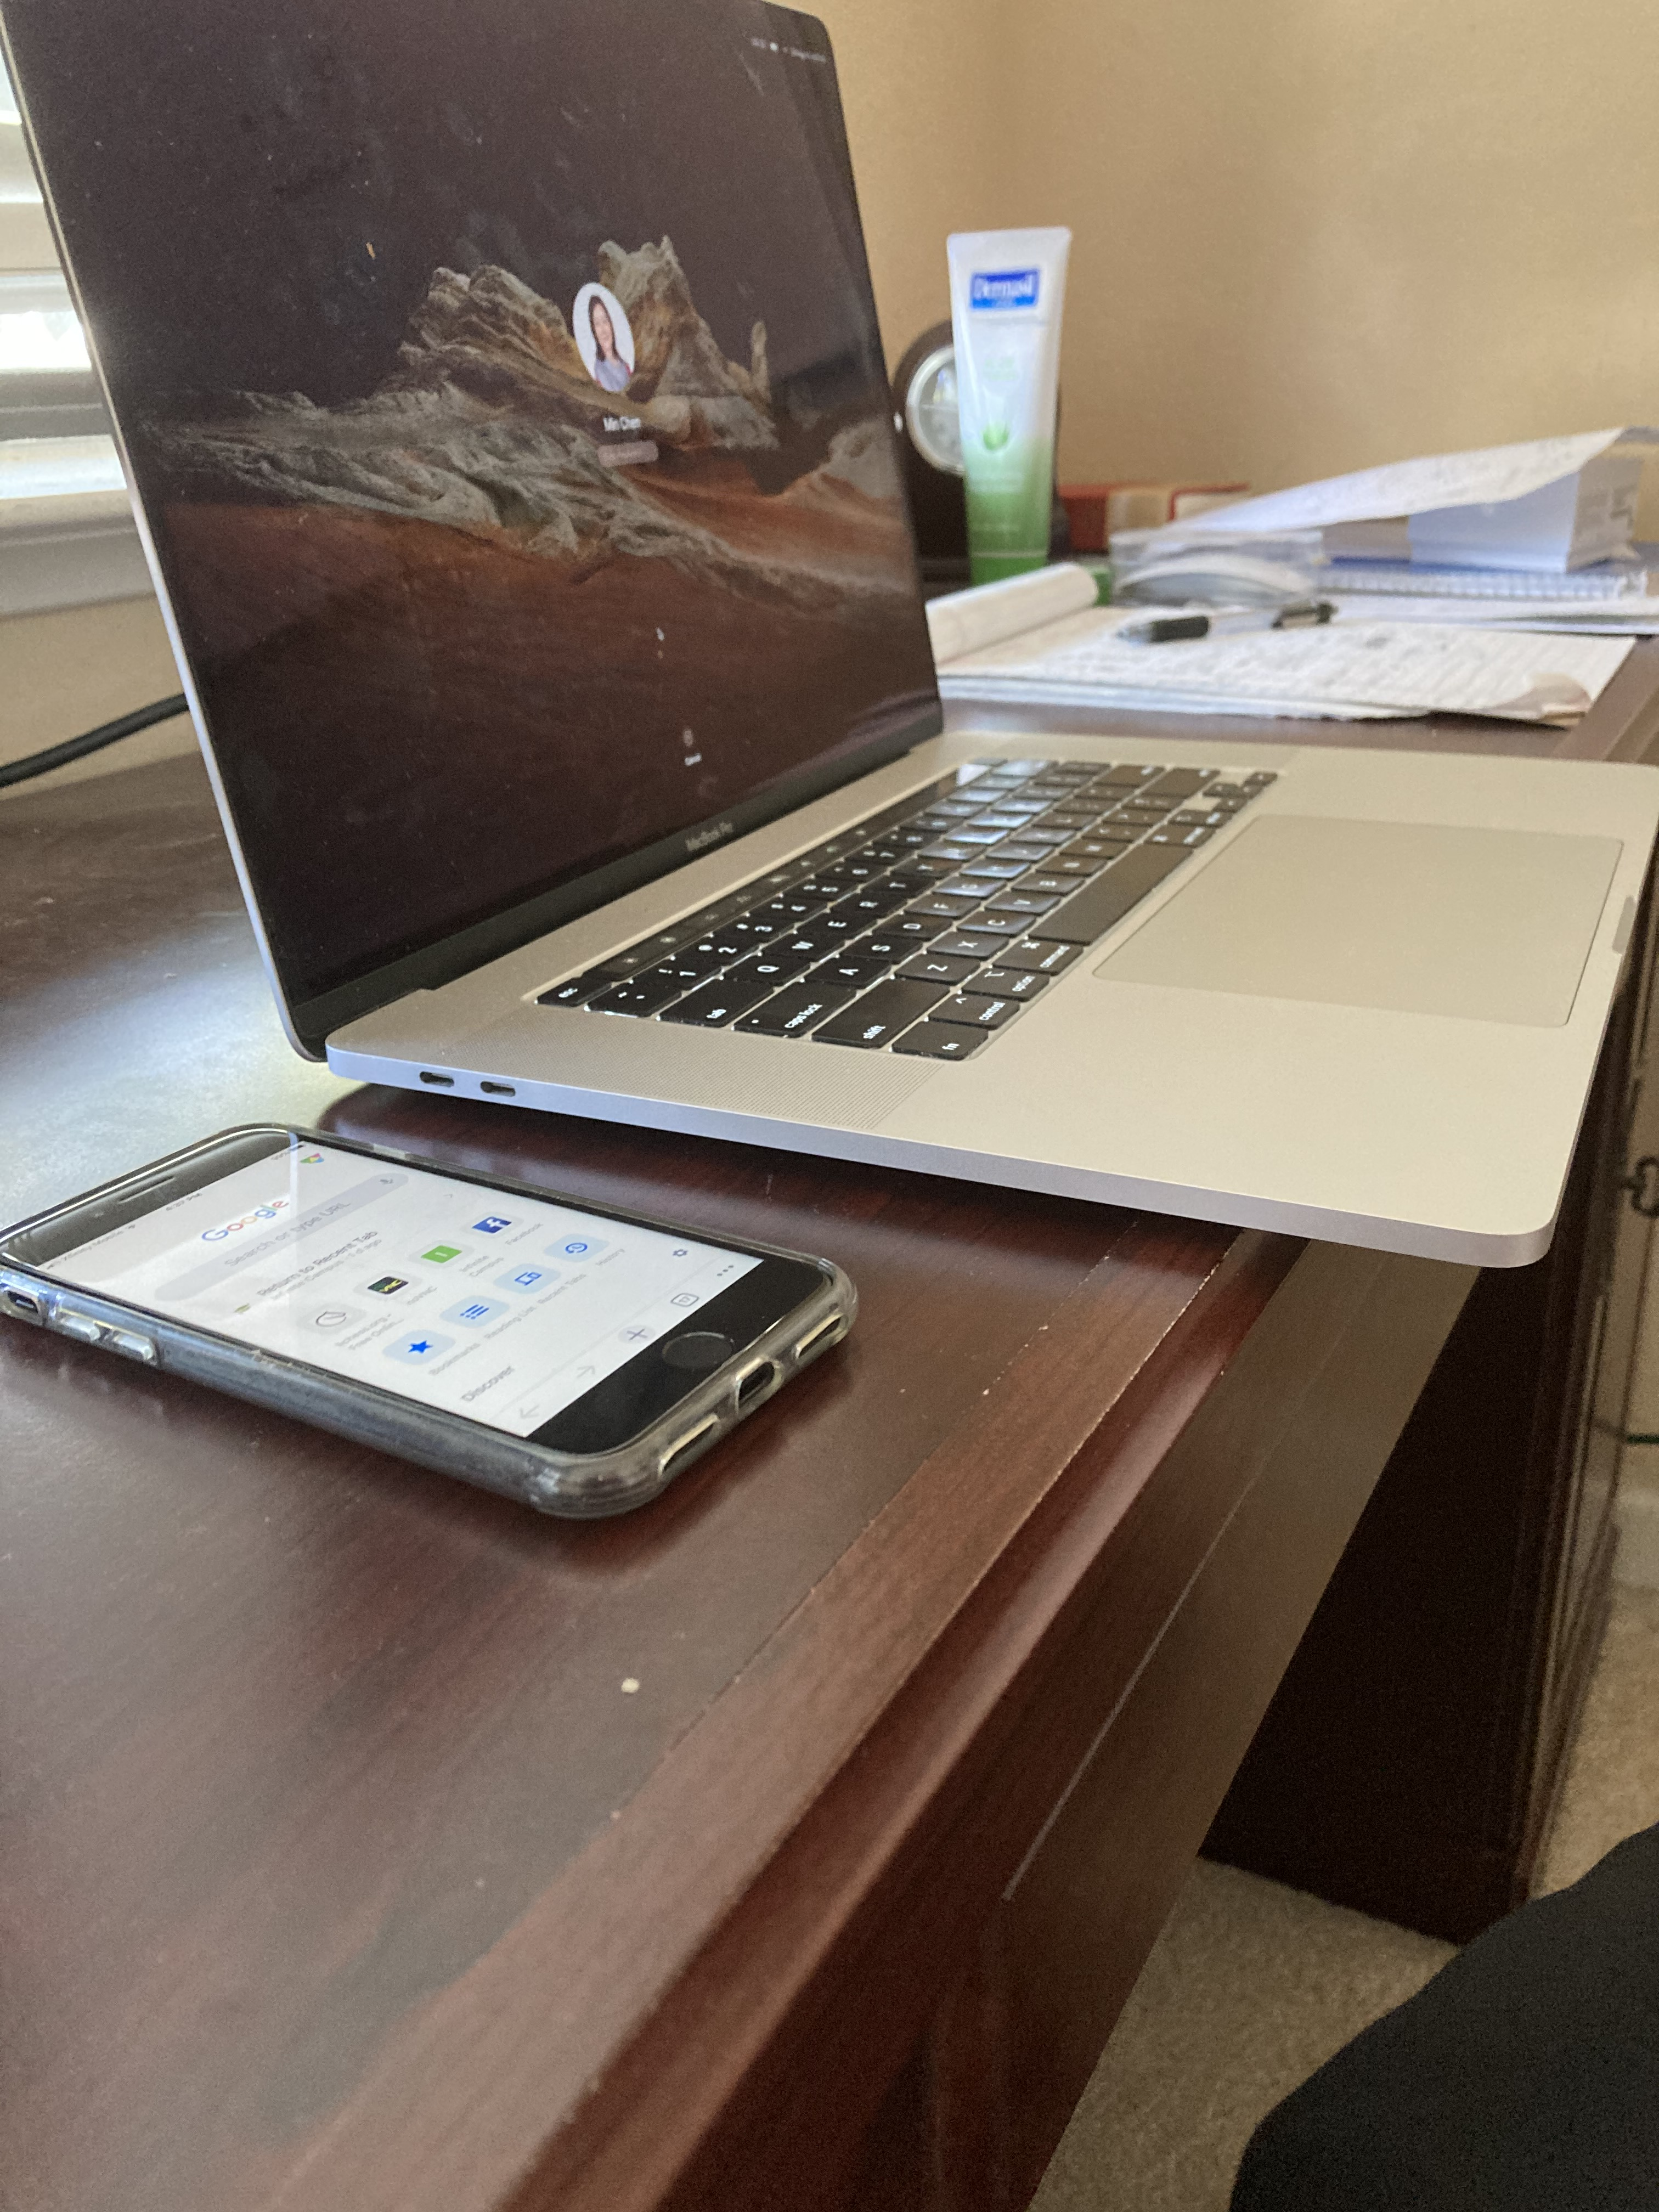Cell Phone: (12, 1127, 863, 1559)
